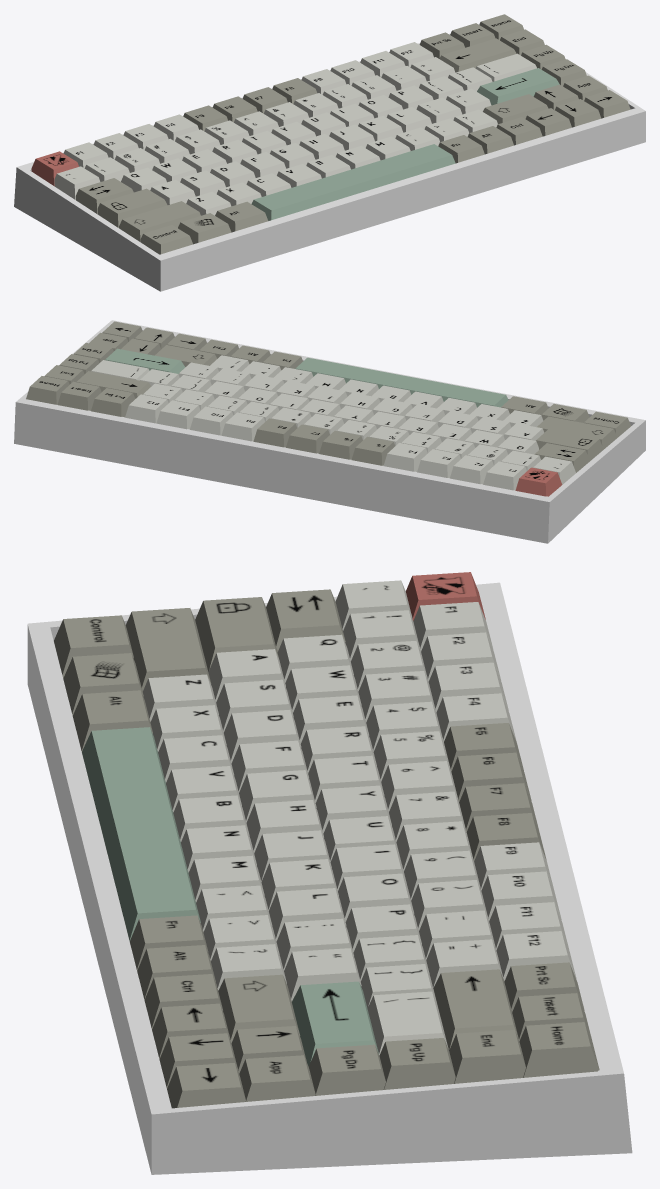
The model's file is Keyboard.gltf.
The picture shows the model from 3 angles, top to bottom: view 1: azimuth 30°, elevation 25°; view 2: azimuth 150°, elevation 25°; view 3: azimuth 270°, elevation 25°; orthographic projection. The views are drawn at different scales.
Visible parts, largest first — view 1: Case, Plane.077, Plane.069, Plane.081, Plane.082, Plane.014, Plane.084, Plane.083, Plane.078, Plane.080, Plane.079, Plane.064 (+73 smaller); view 2: Case, Plane.077, Plane.081, Plane.069, Plane.082, Plane.017, Plane.014, Plane.028, Plane.021, Plane.029, Plane.016, Plane.019 (+73 smaller); view 3: Case, Plane.077, Plane.081, Plane.069, Plane.014, Plane.082, Plane.084, Plane.030, Plane.013, Plane.064, Plane.065, Plane.067 (+73 smaller).
Part boxes in pixels (bbox=[...]): Case: bbox=[14, 33, 645, 291]; Plane.077: bbox=[251, 144, 455, 220]; Plane.069: bbox=[477, 68, 559, 105]; Plane.081: bbox=[119, 201, 200, 241]; Plane.082: bbox=[97, 188, 167, 227]; Plane.014: bbox=[439, 38, 516, 72]; Plane.084: bbox=[483, 94, 548, 124]; Plane.083: bbox=[76, 178, 133, 214]; Plane.078: bbox=[178, 213, 231, 244]; Plane.080: bbox=[140, 225, 192, 254]; Plane.079: bbox=[215, 201, 268, 232]; Plane.064: bbox=[475, 53, 536, 81]; Case: bbox=[14, 320, 645, 543]; Plane.077: bbox=[295, 357, 508, 407]; Plane.081: bbox=[537, 416, 617, 449]; Plane.069: bbox=[105, 348, 185, 373]; Plane.082: bbox=[536, 429, 603, 460]; Plane.017: bbox=[515, 467, 562, 496]; Plane.014: bbox=[76, 371, 151, 398]; Plane.028: bbox=[91, 388, 134, 417]; Plane.021: bbox=[383, 443, 427, 471]; Plane.029: bbox=[57, 381, 101, 410]; Plane.016: bbox=[156, 400, 200, 429]; Plane.019: bbox=[450, 455, 493, 484]; Case: bbox=[27, 582, 632, 1174]; Plane.077: bbox=[82, 727, 200, 940]; Plane.081: bbox=[126, 608, 211, 690]; Plane.069: bbox=[292, 981, 378, 1066]; Plane.014: bbox=[433, 969, 519, 1050]; Plane.082: bbox=[195, 597, 278, 671]; Plane.084: bbox=[218, 974, 300, 1042]; Plane.030: bbox=[519, 1022, 599, 1077]; Plane.013: bbox=[449, 1030, 525, 1083]; Plane.064: bbox=[367, 991, 448, 1055]; Plane.065: bbox=[379, 1038, 455, 1089]; Plane.067: bbox=[309, 1044, 385, 1095].
Bounding box in the file's own units: 4.55 × 0.421 × 2.27.
Materials: 5 (4 with a texture image).
